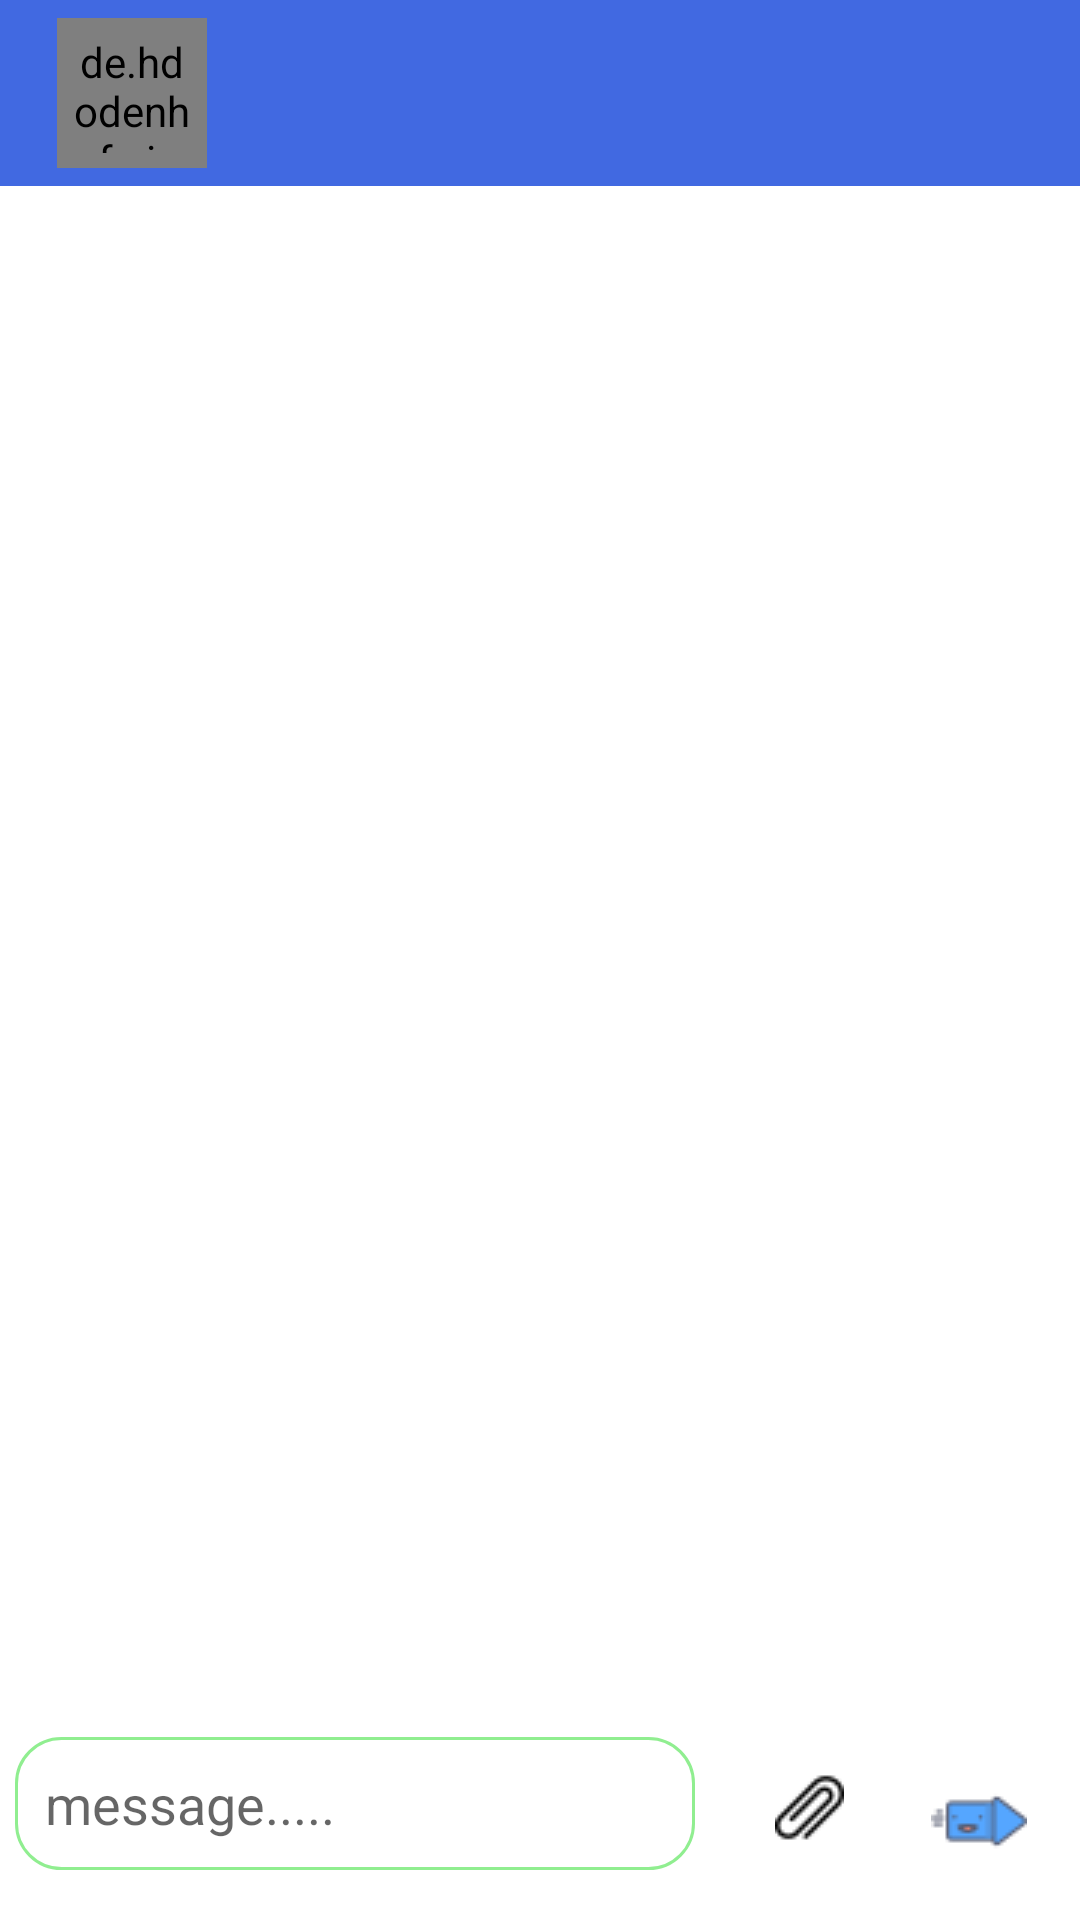

Icon bounding boxes for this 1080px×1920px phone screenshot, format (x1, y1, x2, y2):
clip: (775, 1775, 844, 1840)
send: (931, 1796, 1027, 1846)
